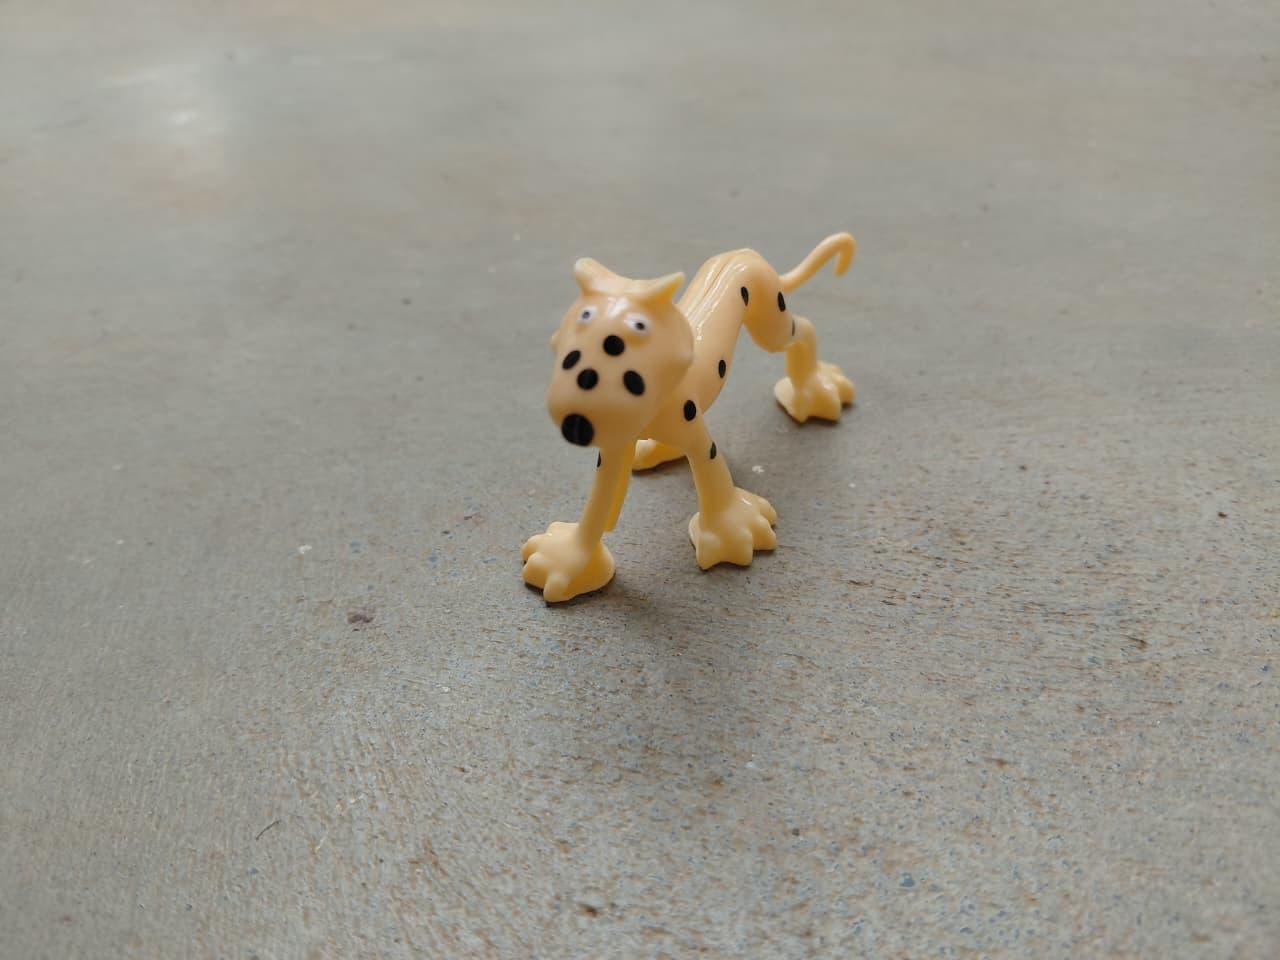cheetah: (516, 234, 867, 605)
